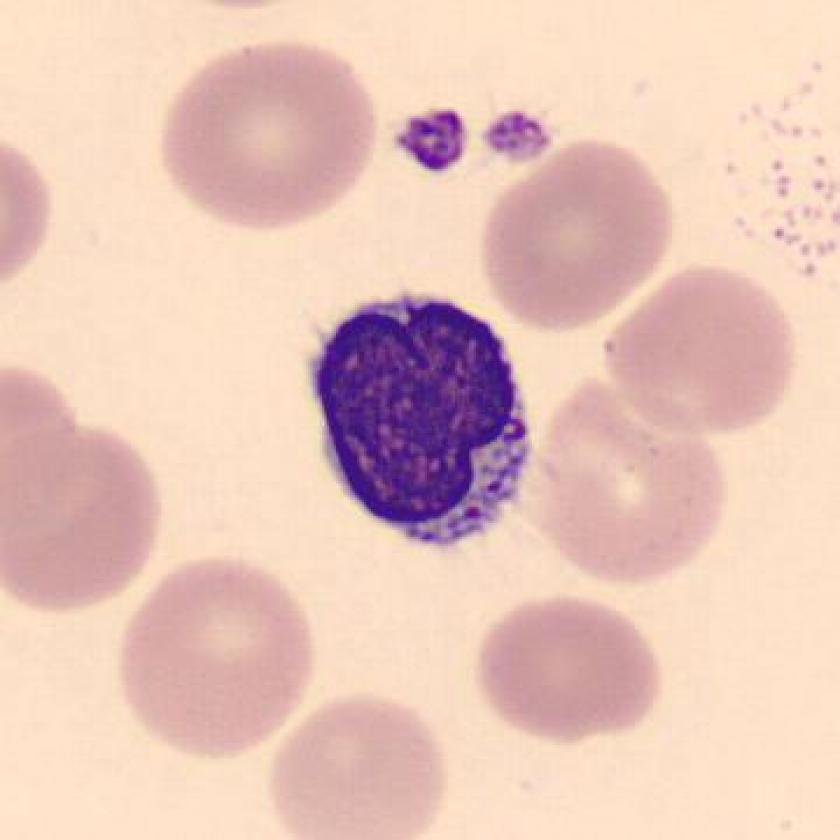lymphocyte: (293, 272, 554, 566)
